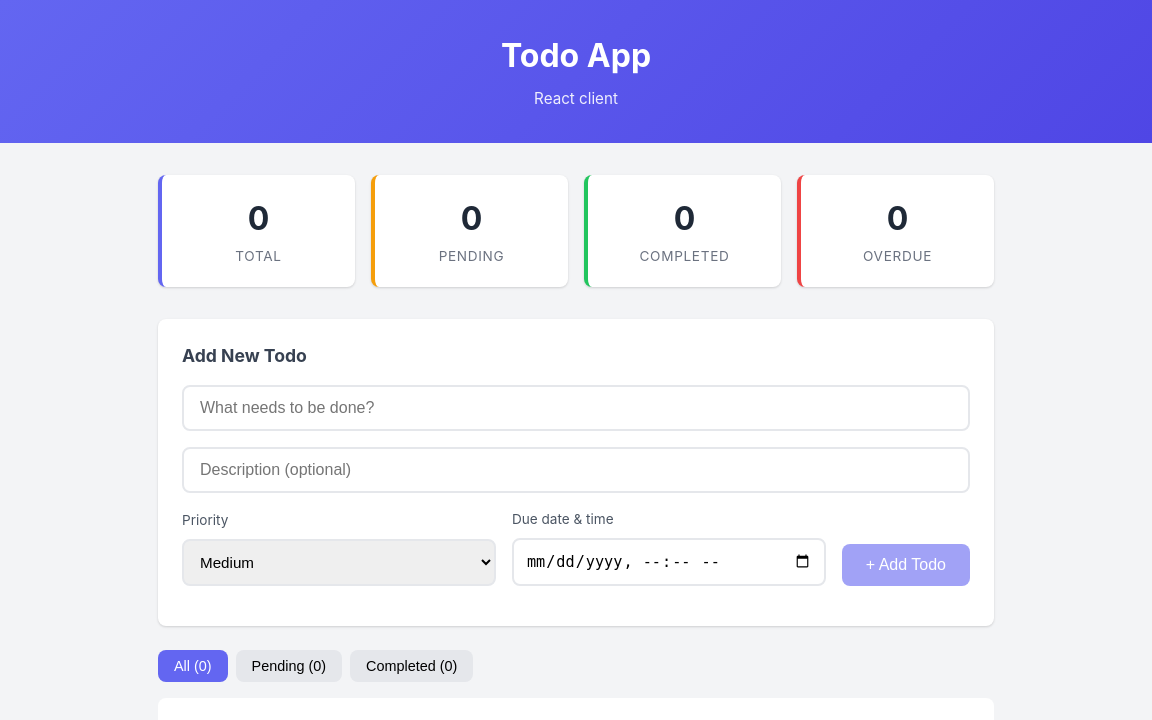
Test case: App › shows the API's validation message
Expected: the element named "Statistics" is shown, 158,175 -> 994,287
Type "Too long" into the field named "Title" at x=576, y=408, box 182,385 -> 970,431
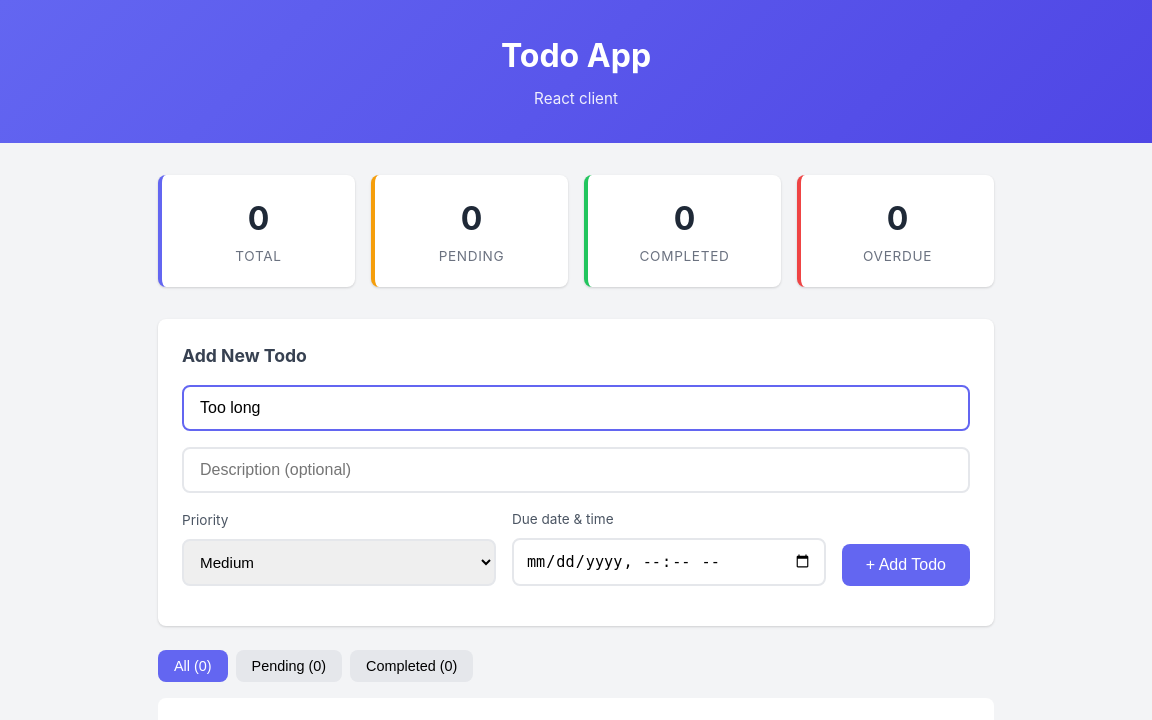
Click the button "+ Add Todo" at x=906, y=565, box 842,544 -> 970,586
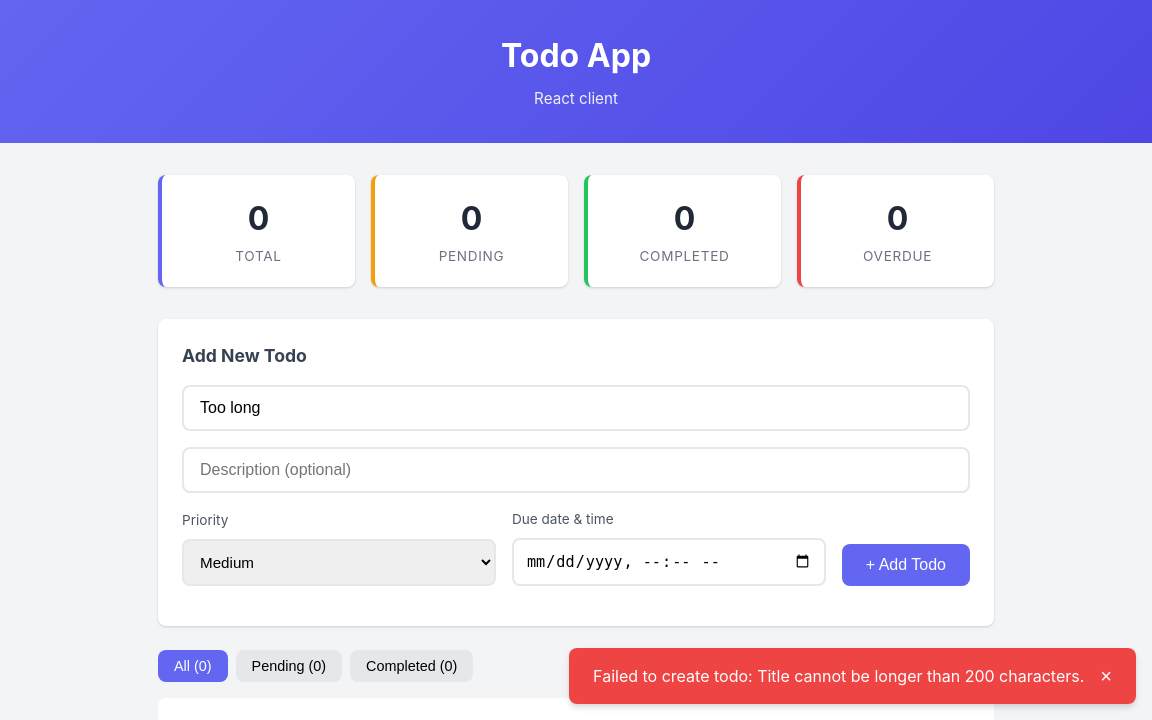
Expected: the message shows "Title cannot be longer than 200 characters.", 593,666 -> 1084,686
